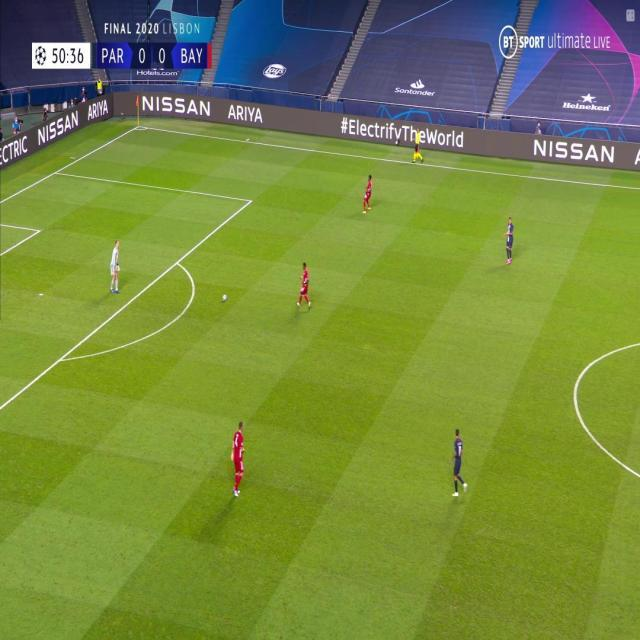ball: (221, 292, 227, 302)
goalkeeper: (110, 238, 123, 295)
player: (450, 427, 469, 499), (231, 421, 247, 499), (295, 261, 312, 312), (503, 215, 515, 266), (361, 175, 373, 215)
referee: (412, 131, 424, 164)
